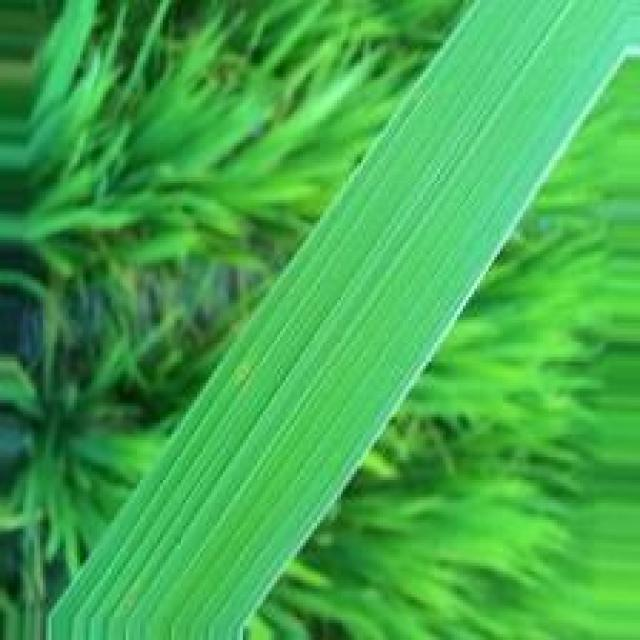HealthyLeaf: (49, 0, 640, 640)
